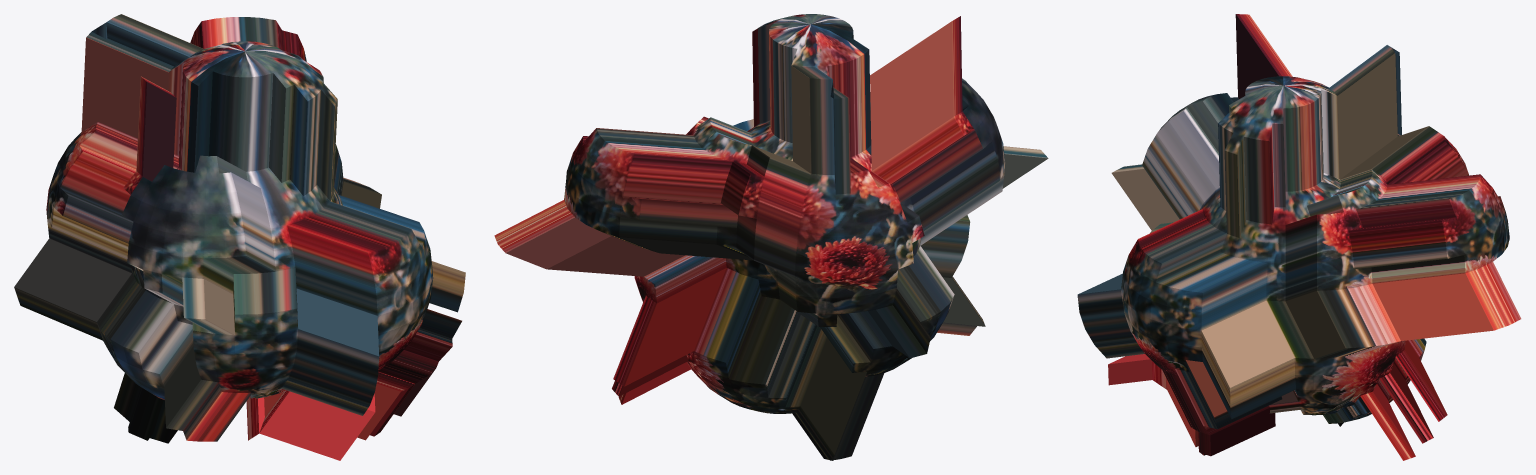
Rendered from flor7.gltf.
The picture shows the model from 3 angles, left to right: view 1: azimuth 30°, elevation 25°; view 2: azimuth 150°, elevation 25°; view 3: azimuth 270°, elevation 25°; orthographic projection. The views are drawn at different scales.
Parts seen in each view (by area): view 1: Sphere; view 2: Sphere; view 3: Sphere.
Boxes of the visible parts, <box> form: Sphere: <box>14,14,465,460</box>; Sphere: <box>494,14,1048,460</box>; Sphere: <box>1077,14,1521,460</box>.
Bounding box in the file's own units: 3.9 × 4.18 × 4.45.
Materials: 1 (1 with a texture image).
